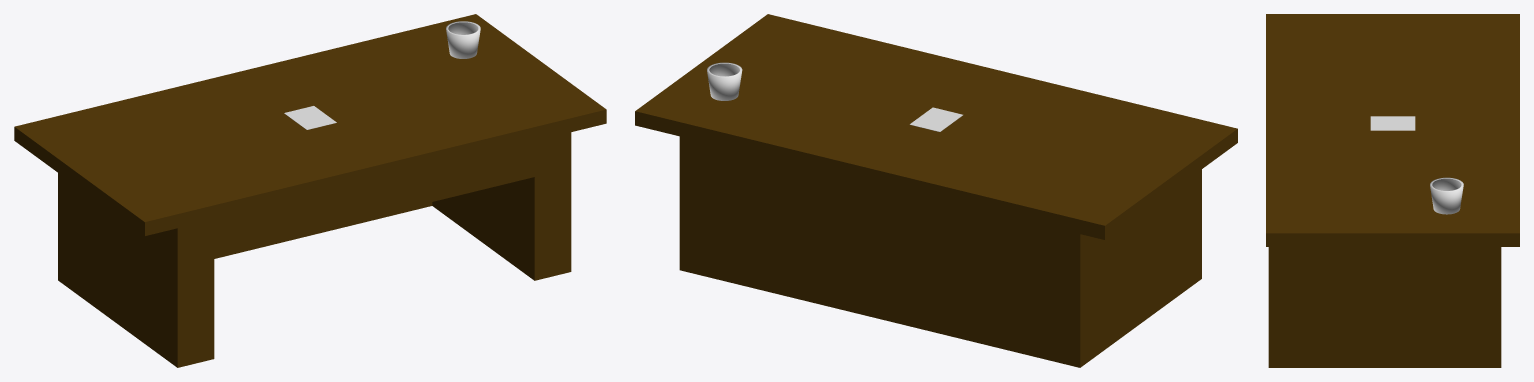
Rendered from TeachersDesk.fbx.
The picture shows the model from 3 angles, left to right: view 1: azimuth 30°, elevation 25°; view 2: azimuth 150°, elevation 25°; view 3: azimuth 270°, elevation 25°; orthographic projection. The views are drawn at different scales.
Parts seen in each view (by area): view 1: Teacher Desk, Teachercup, TeacherPaper; view 2: Teacher Desk, Teachercup, TeacherPaper; view 3: Teacher Desk, Teachercup, TeacherPaper.
Part boxes in pixels (x1,y1,x2,y2): Teacher Desk: [14, 14, 606, 367]; Teachercup: [446, 21, 480, 58]; TeacherPaper: [284, 106, 336, 129]; Teacher Desk: [635, 14, 1237, 367]; Teachercup: [707, 62, 742, 100]; TeacherPaper: [910, 107, 962, 131]; Teacher Desk: [1266, 14, 1519, 367]; Teachercup: [1430, 177, 1463, 214]; TeacherPaper: [1370, 116, 1415, 130].
Size of the model in its own units: 1670 by 623 by 817.
